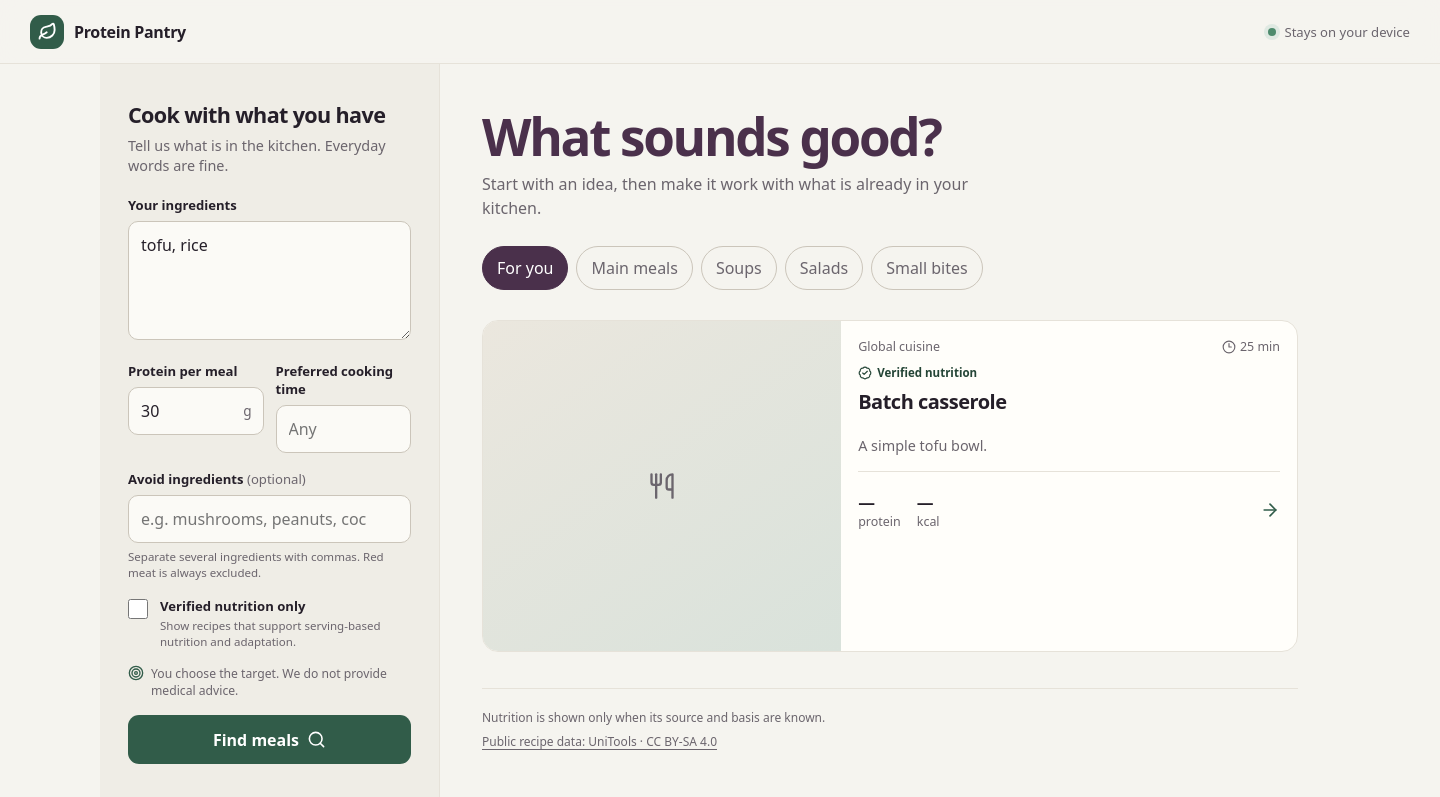
Test case: guides the user to a serving count the recipe can actually produce
Click the button with aria-label "View Batch casserole" at (890, 486), box [483, 321, 1297, 651]
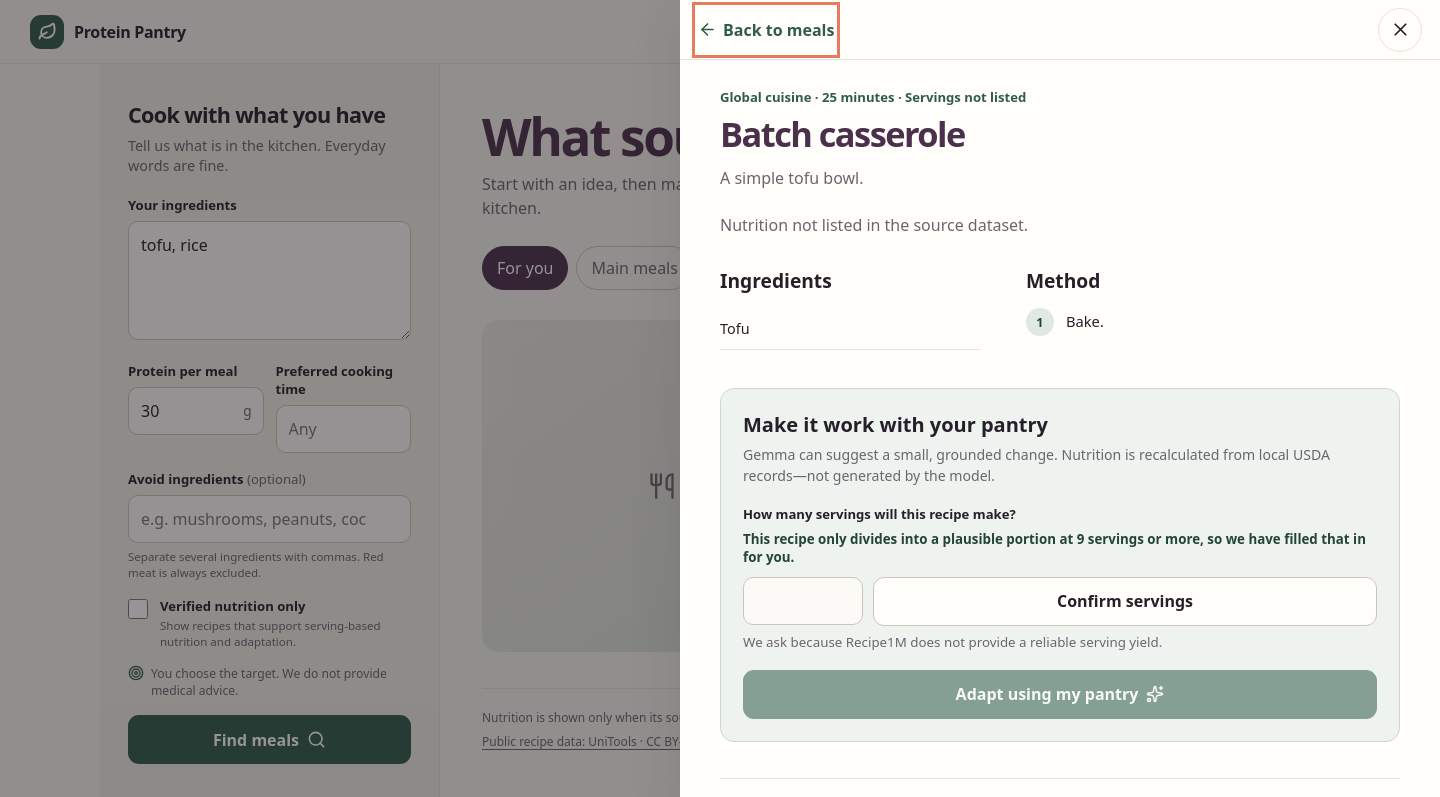
Type "4" into the number field labelled "How many servings will this recipe make?" at (803, 601), box [743, 577, 863, 625]
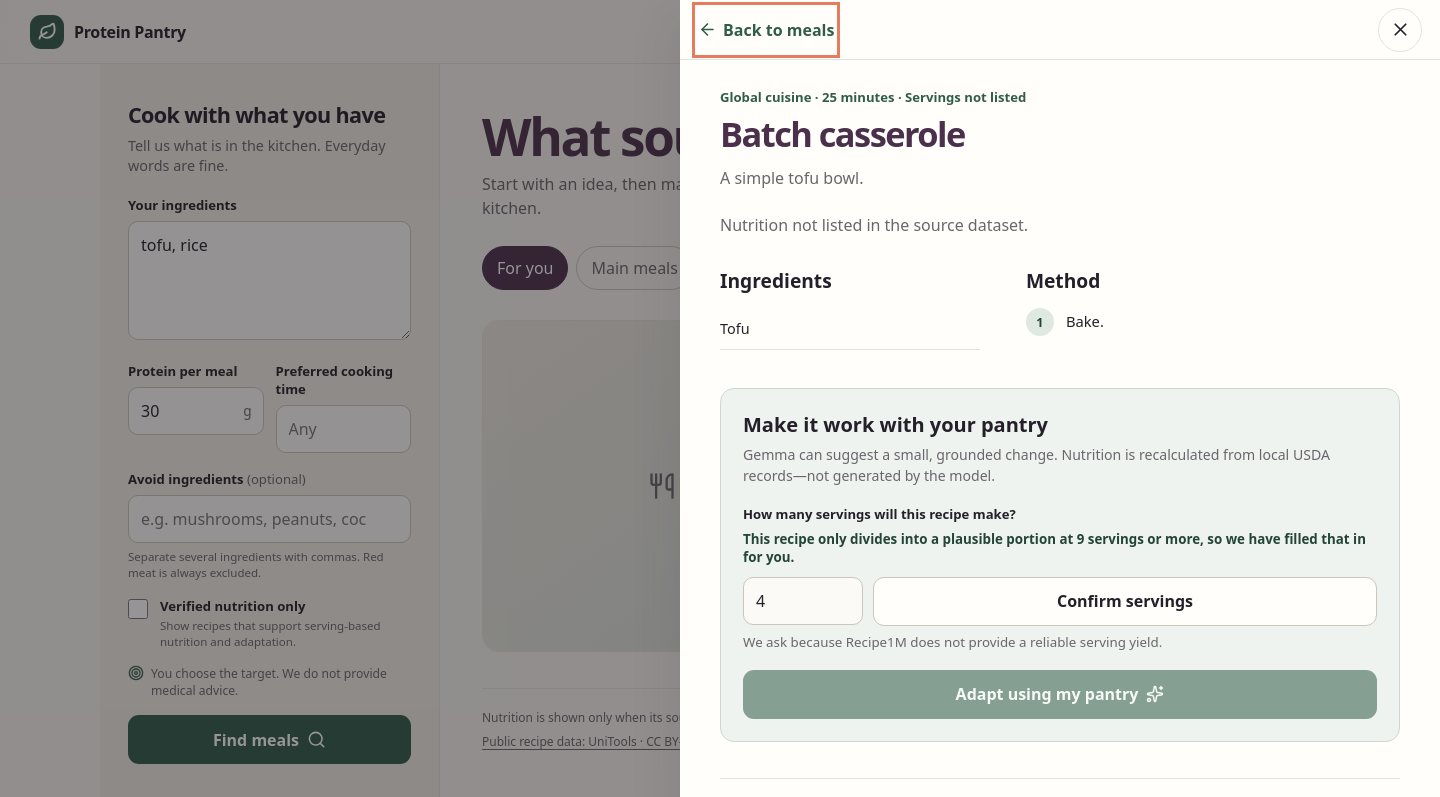
Click the button "Confirm servings" at (1125, 601), box [873, 577, 1377, 626]
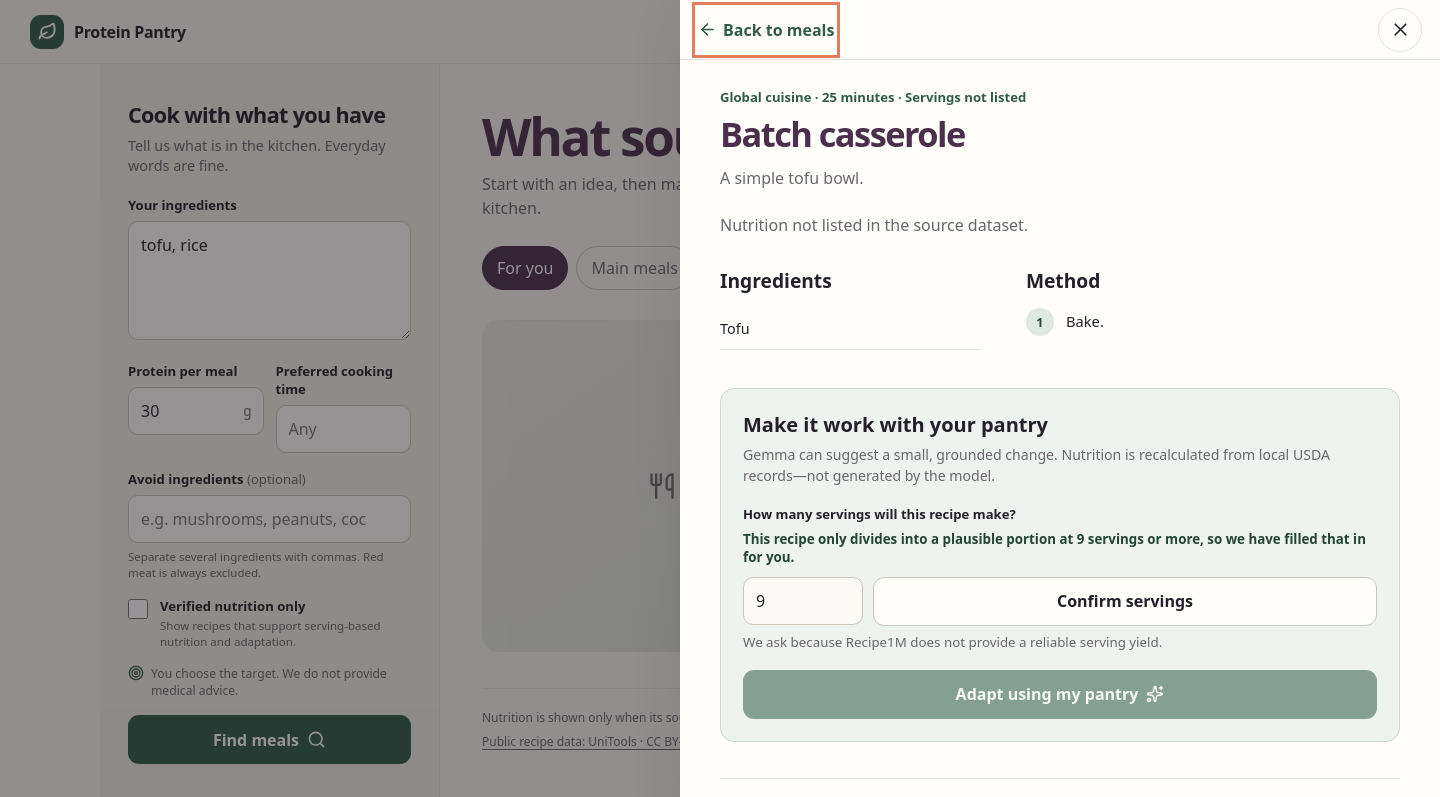
Now the text "only divides into a plausible portion at 9 servings or more" is shown, box [743, 530, 1377, 567]
Now the number field labelled "How many servings will this recipe make?" holds "9", box [743, 577, 863, 625]
